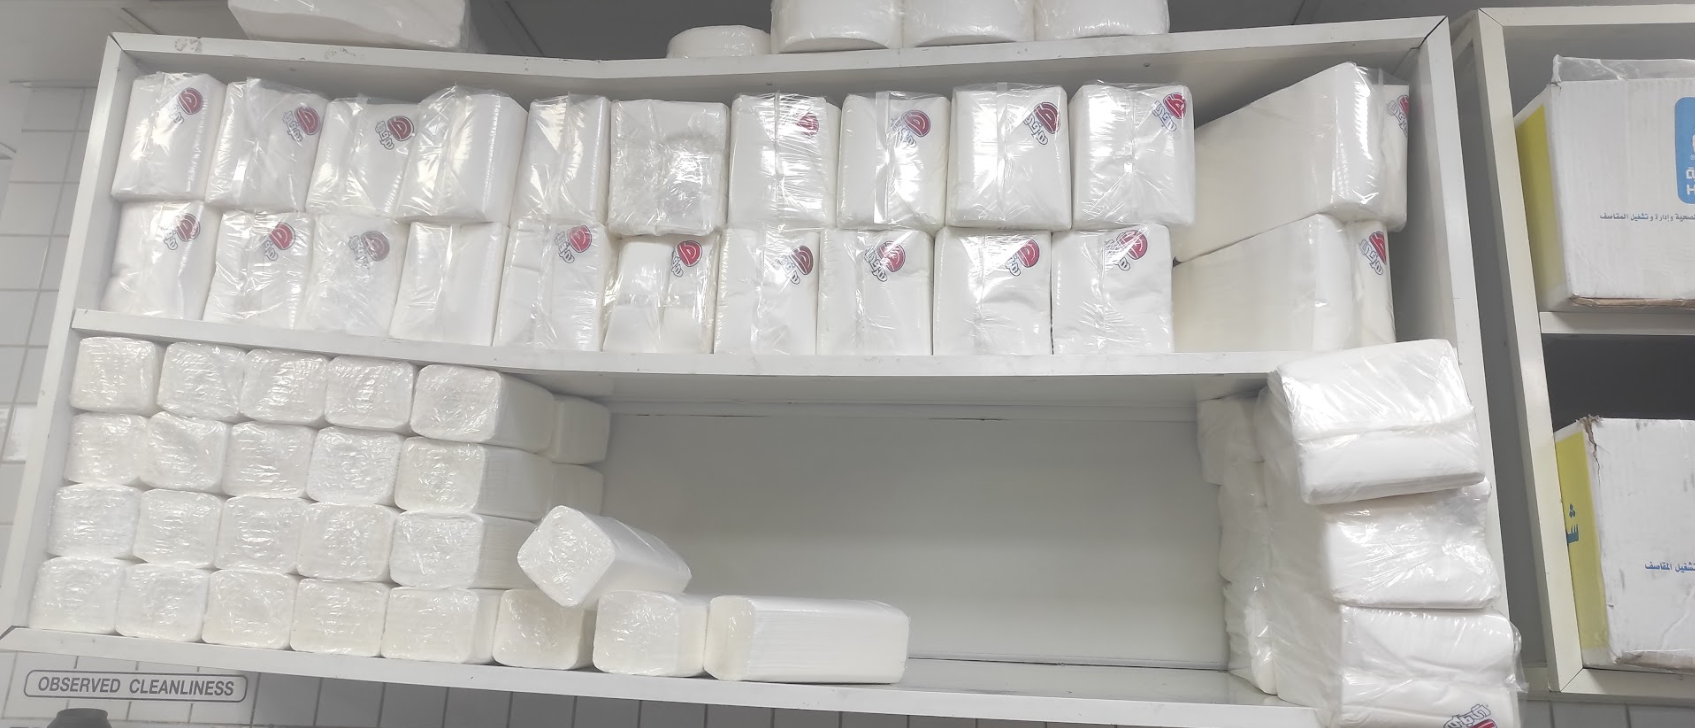Aluminum Shelves: (4, 26, 1545, 724)
